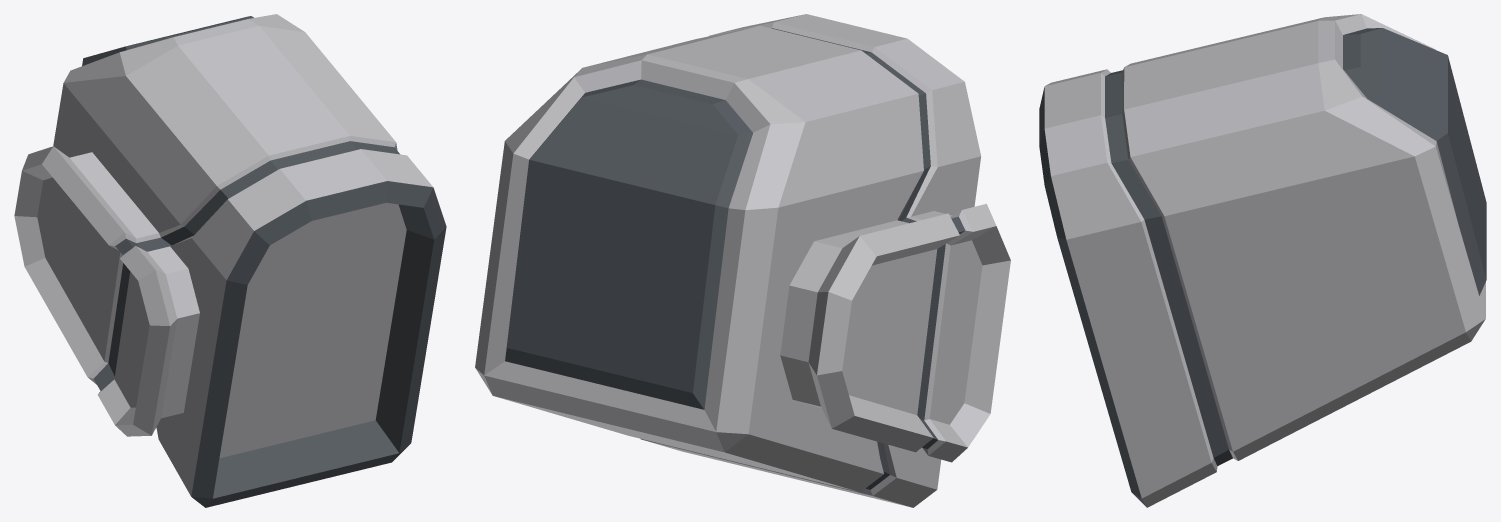
The model's file is Dropship_02_Light_Mount.fbx.
3 renders of one model, left to right at view 1: azimuth 30°, elevation 25°; view 2: azimuth 150°, elevation 25°; view 3: azimuth 270°, elevation 25°, orthographic. The views are drawn at different scales.
Parts seen in each view (by area): view 1: Dropship_02_Light_Mount; view 2: Dropship_02_Light_Mount; view 3: Dropship_02_Light_Mount.
Boxes of the visible parts, box(x1,y1,x2,y2) form: Dropship_02_Light_Mount: box(14, 14, 446, 507); Dropship_02_Light_Mount: box(475, 14, 1010, 507); Dropship_02_Light_Mount: box(1039, 14, 1486, 507).
Size of the model in its own units: 185 by 256 by 248.
Materials: 1 (1 with a texture image).
